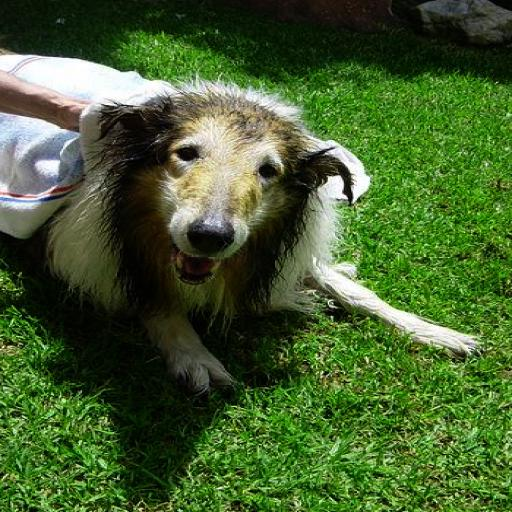dog_face: (92, 100, 353, 294)
